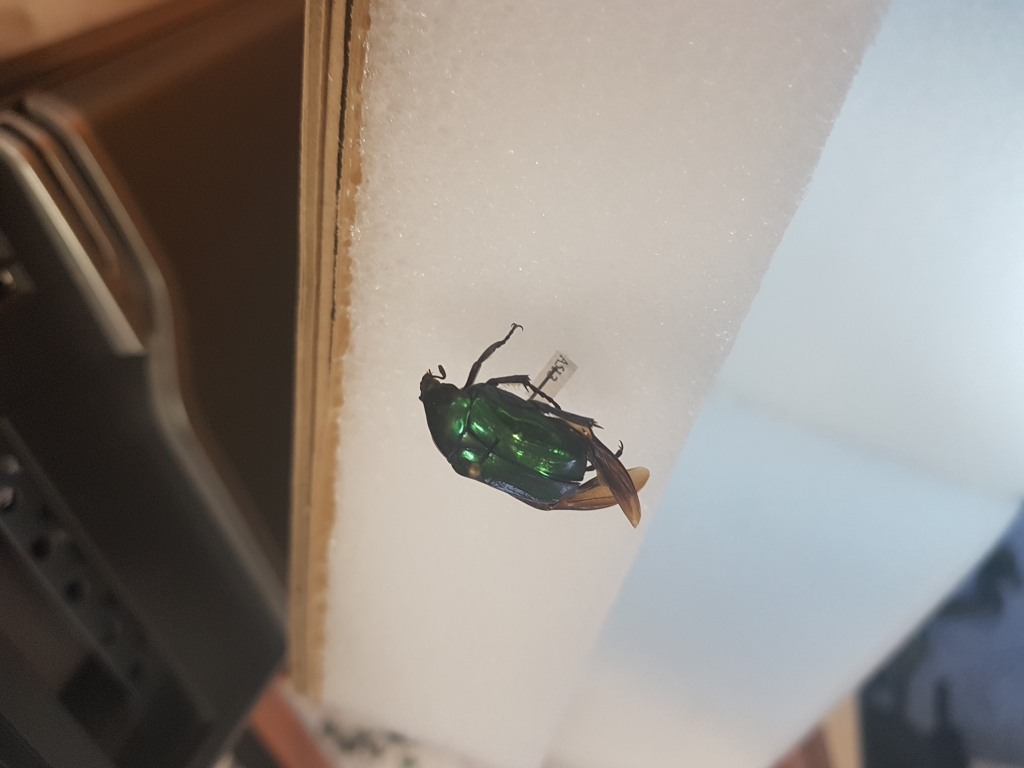Protaetia_angustata_angustata: (415, 322, 600, 512)
